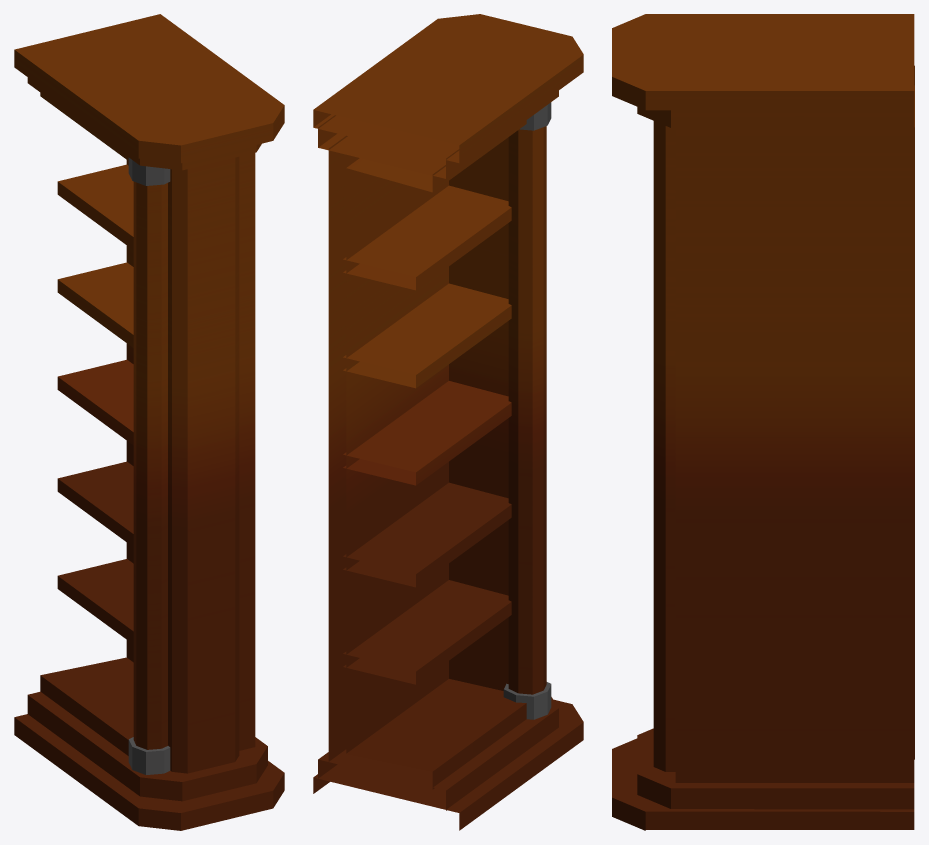
File: Bookshelf 02 End.c.fbx
3 views of the same model, side by side, from view 1: azimuth 30°, elevation 25°; view 2: azimuth 150°, elevation 25°; view 3: azimuth 270°, elevation 25° (orthographic). The views are drawn at different scales.
Parts seen in each view (by area): view 1: Bookshelf 02 End.c; view 2: Bookshelf 02 End.c; view 3: Bookshelf 02 End.c.
Part boxes in pixels (x1,y1,x2,y2): Bookshelf 02 End.c: (14,14,284,830); Bookshelf 02 End.c: (313,14,583,830); Bookshelf 02 End.c: (612,14,914,830).
Size of the model in its own units: 59.71 by 267 by 99.18.
